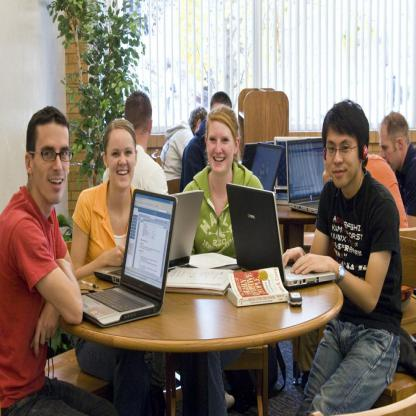face: (33, 124, 70, 204), (327, 127, 362, 188), (107, 130, 136, 188), (208, 121, 235, 174), (380, 127, 404, 171)
